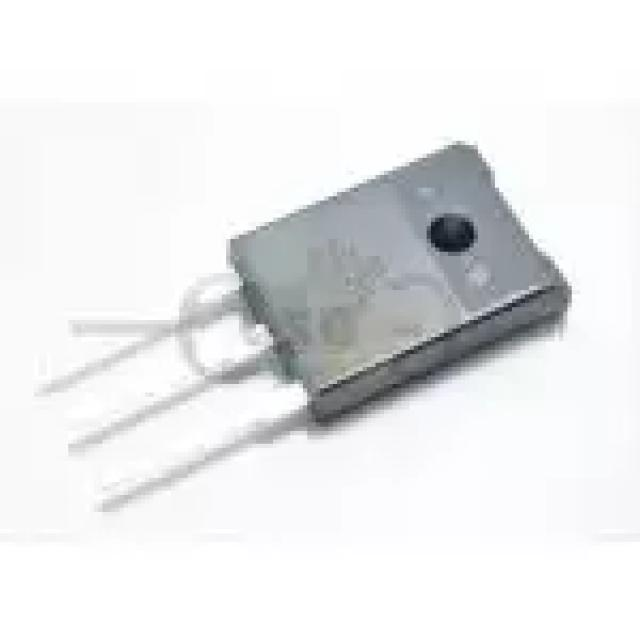Transistor: (44, 145, 575, 488)
